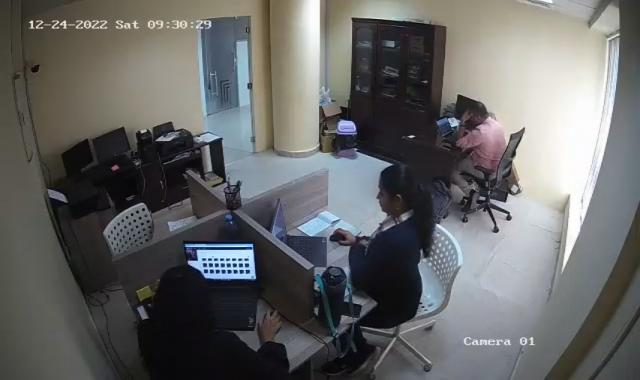no_hairnet: (156, 266, 210, 325), (372, 158, 418, 216), (469, 100, 489, 123)
